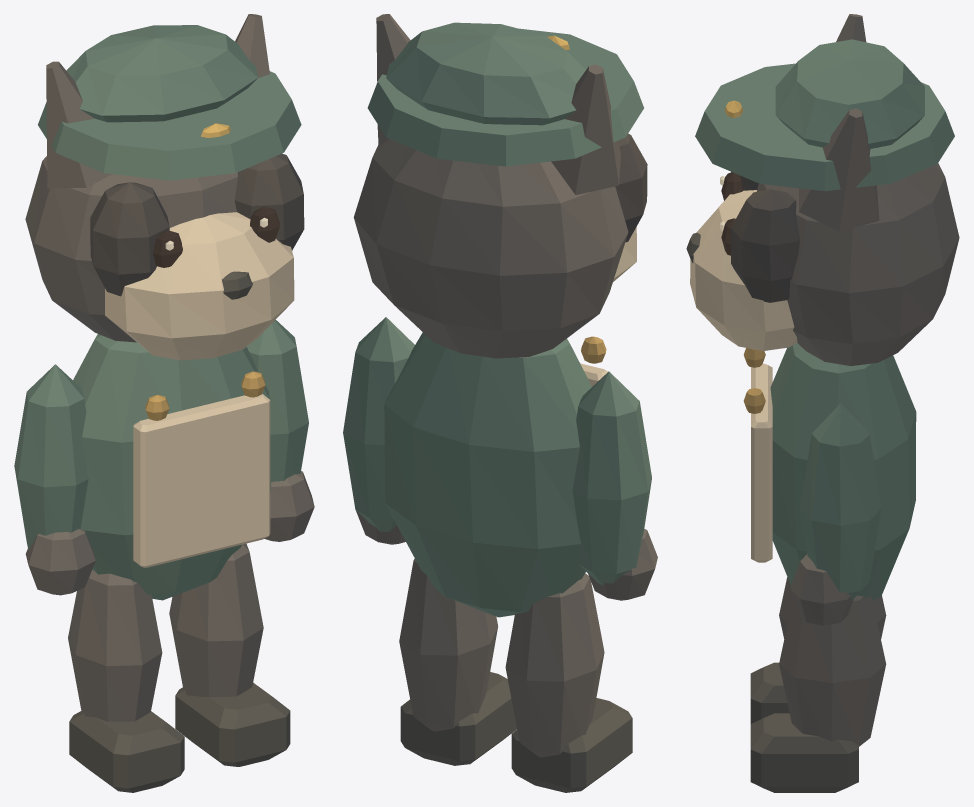
Rendered from npc_bo.glb.
3 renders of one model, left to right at view 1: azimuth 30°, elevation 25°; view 2: azimuth 150°, elevation 25°; view 3: azimuth 270°, elevation 25°, orthographic. The views are drawn at different scales.
Visible parts, largest first — view 1: npc_bo, npc_bo_leg_l, npc_bo_leg_r, npc_bo_arm_l, npc_bo_arm_r; view 2: npc_bo, npc_bo_leg_l, npc_bo_leg_r, npc_bo_arm_l, npc_bo_arm_r; view 3: npc_bo, npc_bo_leg_r, npc_bo_arm_r, npc_bo_leg_l.
Part boxes in pixels (x1=…): npc_bo: x1=25, y1=14, x2=304, y2=600; npc_bo_leg_l: x1=68, y1=569, x2=184, y2=792; npc_bo_leg_r: x1=169, y1=543, x2=290, y2=766; npc_bo_arm_l: x1=14, y1=364, x2=95, y2=595; npc_bo_arm_r: x1=246, y1=319, x2=314, y2=541; npc_bo: x1=353, y1=14, x2=647, y2=617; npc_bo_leg_l: x1=505, y1=573, x2=632, y2=792; npc_bo_leg_r: x1=399, y1=558, x2=516, y2=765; npc_bo_arm_l: x1=572, y1=371, x2=657, y2=600; npc_bo_arm_r: x1=343, y1=317, x2=414, y2=544; npc_bo: x1=686, y1=14, x2=959, y2=601; npc_bo_leg_r: x1=750, y1=595, x2=886, y2=792; npc_bo_arm_r: x1=790, y1=403, x2=881, y2=625; npc_bo_leg_l: x1=750, y1=577, x2=886, y2=723.
Bounding box in the file's own units: 0.646 × 1.52 × 0.5399.
